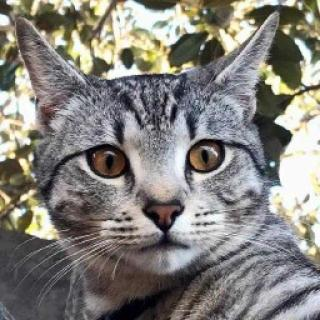cat: (14, 17, 288, 281)
nose: (138, 187, 187, 236)
